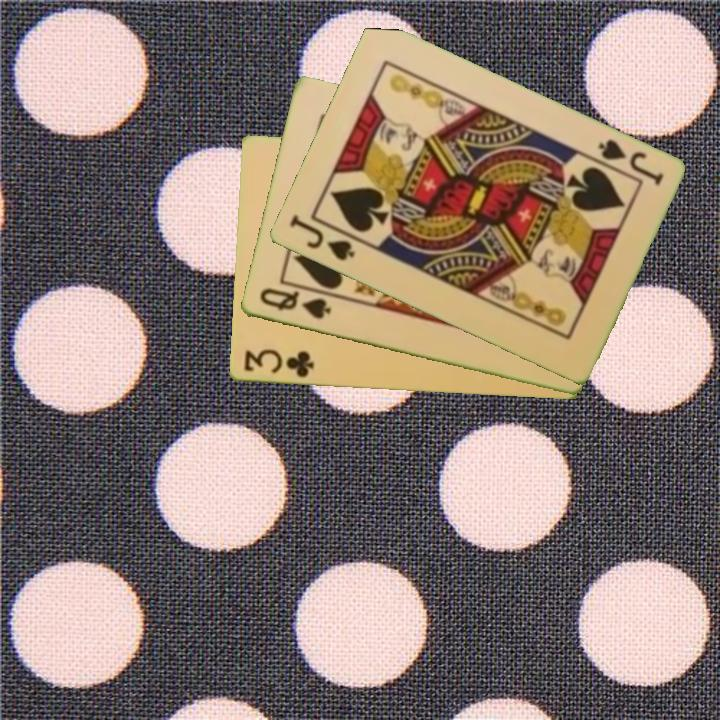3c: (240, 346, 317, 381)
Js: (594, 135, 666, 189), (285, 211, 358, 264)
Qs: (255, 285, 334, 322)
